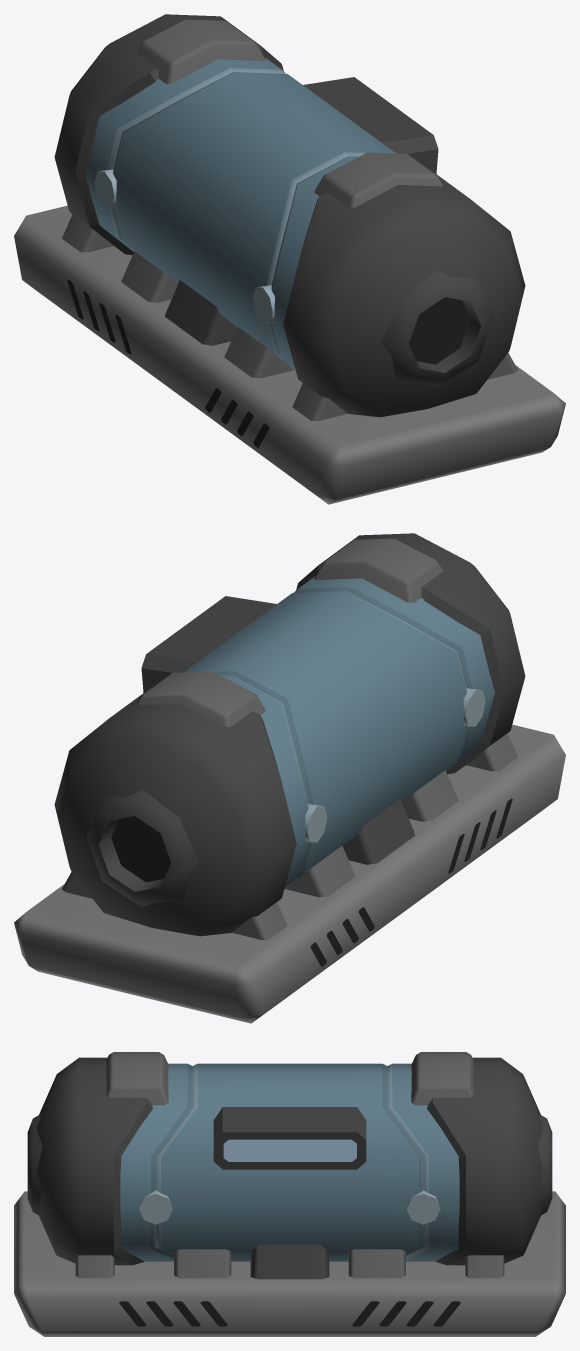
Rendered from prop_002.fbx.
The picture shows the model from 3 angles, top to bottom: view 1: azimuth 30°, elevation 25°; view 2: azimuth 150°, elevation 25°; view 3: azimuth 270°, elevation 25°; orthographic projection. The views are drawn at different scales.
Visible parts, largest first — view 1: prop_002; view 2: prop_002; view 3: prop_002.
Part boxes in pixels (<box>): prop_002: <box>14,14,565,504</box>; prop_002: <box>14,533,565,1023</box>; prop_002: <box>14,1052,565,1336</box>.
Size of the model in its own units: 256 by 595 by 278.
